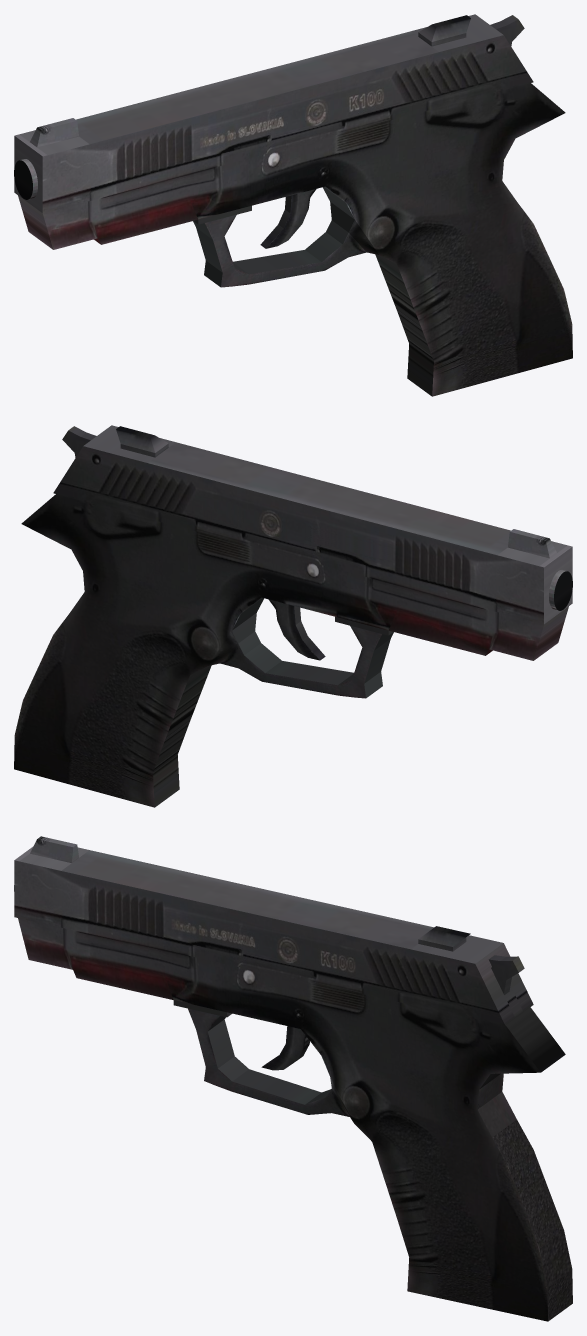
File: Arma-Clock.fbx
The picture shows the model from 3 angles, top to bottom: view 1: azimuth 30°, elevation 25°; view 2: azimuth 150°, elevation 25°; view 3: azimuth 330°, elevation 25°; orthographic projection.
Parts seen in each view (by area): view 1: Cube; view 2: Cube; view 3: Cube.
Part boxes in pixels (x1,y1,x2,y2): Cube: [14, 14, 572, 396]; Cube: [14, 425, 572, 807]; Cube: [14, 836, 572, 1321].
Size of the model in its own units: 7.73 by 4.94 by 0.71.
Materials: 2 (2 with a texture image).
